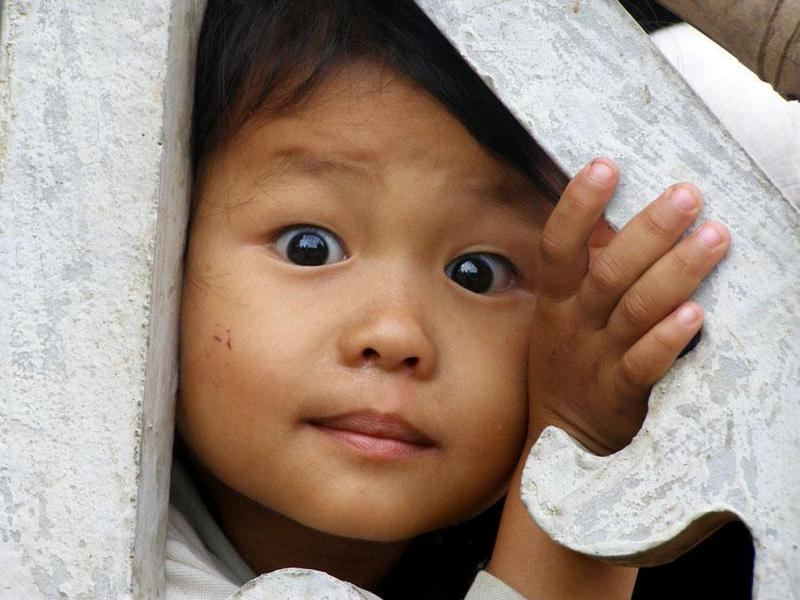person: (170, 11, 695, 600)
